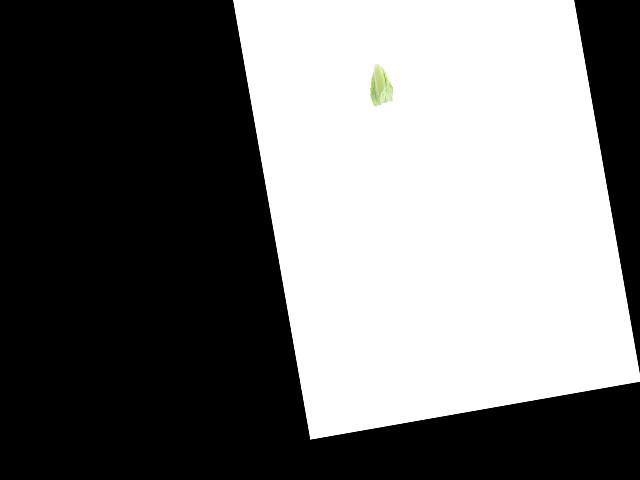lettuce: (361, 59, 399, 109)
